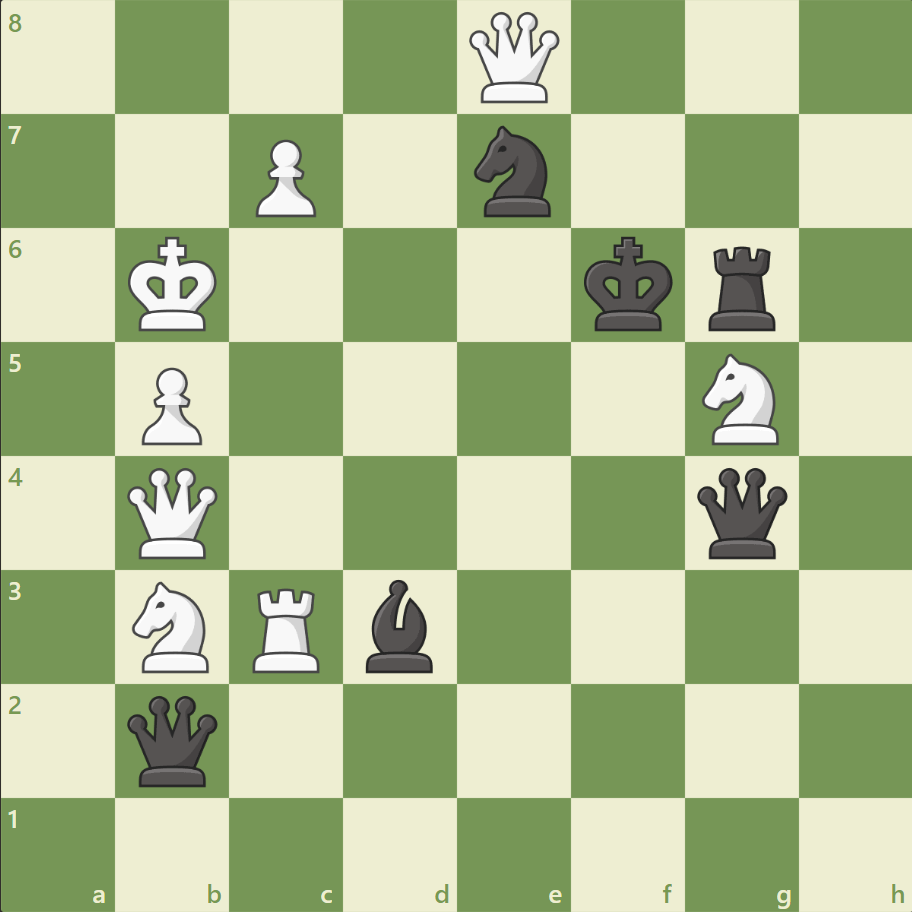K: (124, 231, 224, 339)
N: (124, 575, 222, 677), (692, 348, 789, 450)
P: (247, 132, 322, 223), (133, 359, 208, 450)
Q: (464, 9, 563, 108), (124, 463, 223, 562)
R: (246, 579, 329, 676)
b: (358, 574, 442, 676)
k: (579, 231, 679, 339)
n: (465, 121, 562, 223)
q: (691, 463, 790, 562), (124, 690, 223, 789)
r: (700, 239, 783, 336)
